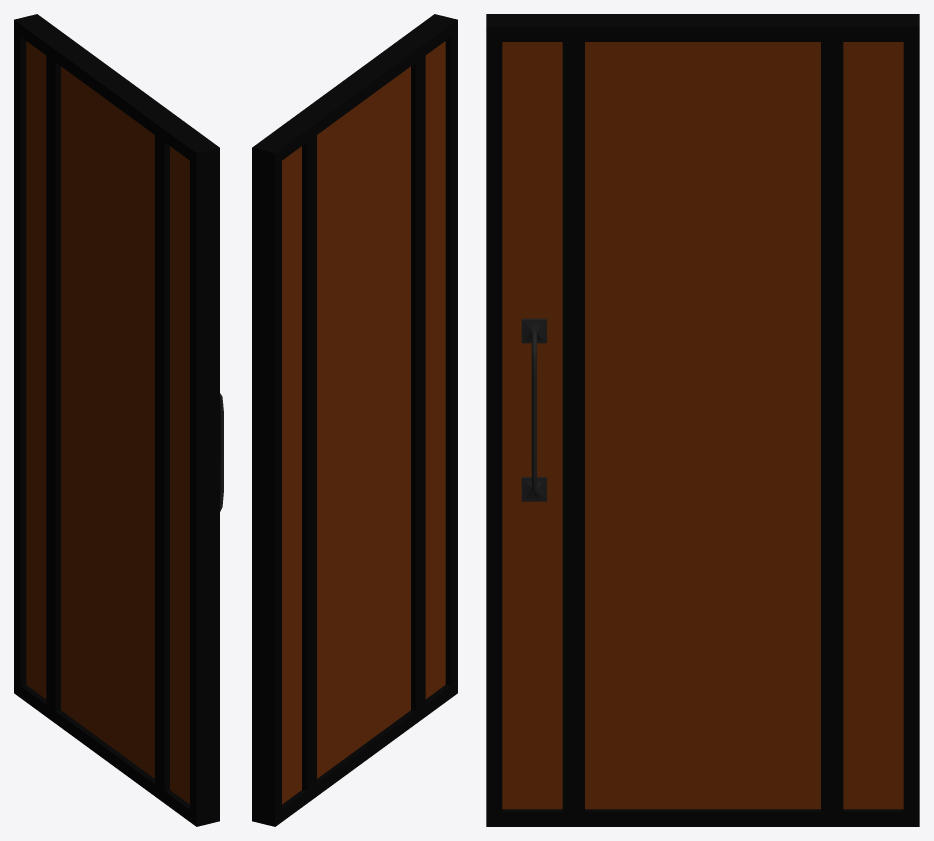
The model's file is Puerta.fbx.
The picture shows the model from 3 angles, left to right: view 1: azimuth 30°, elevation 25°; view 2: azimuth 150°, elevation 25°; view 3: azimuth 270°, elevation 25°; orthographic projection. The views are drawn at different scales.
Parts seen in each view (by area): view 1: pCube4; view 2: pCube4; view 3: pCube4.
Part boxes in pixels (box(x1,y1,x2,y2)): pCube4: box(14, 14, 223, 826); pCube4: box(252, 14, 457, 826); pCube4: box(486, 14, 919, 826).
Bounding box in the file's own units: 0.2455 × 3.34 × 1.64.
